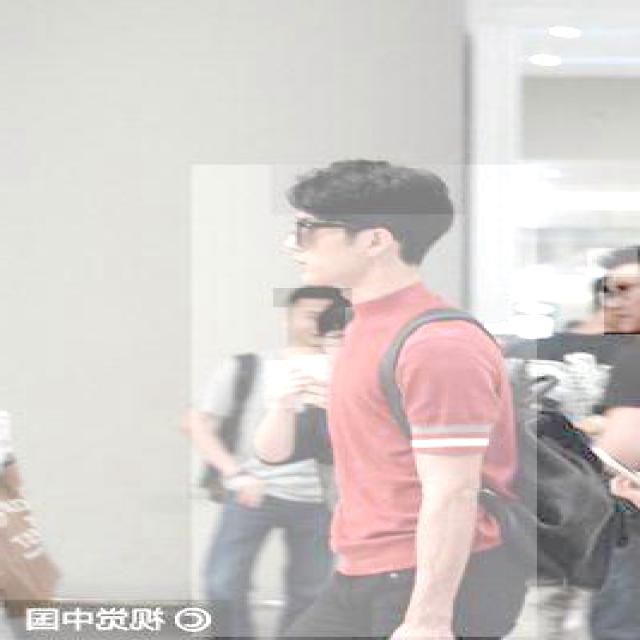face_nomask: (283, 212, 374, 290), (288, 307, 345, 347), (602, 277, 640, 336)
hand_noglove: (264, 360, 324, 408), (221, 472, 266, 510)
head_nohelmet: (271, 165, 465, 214), (274, 288, 352, 307), (585, 248, 637, 275)
person: (189, 165, 537, 638)
